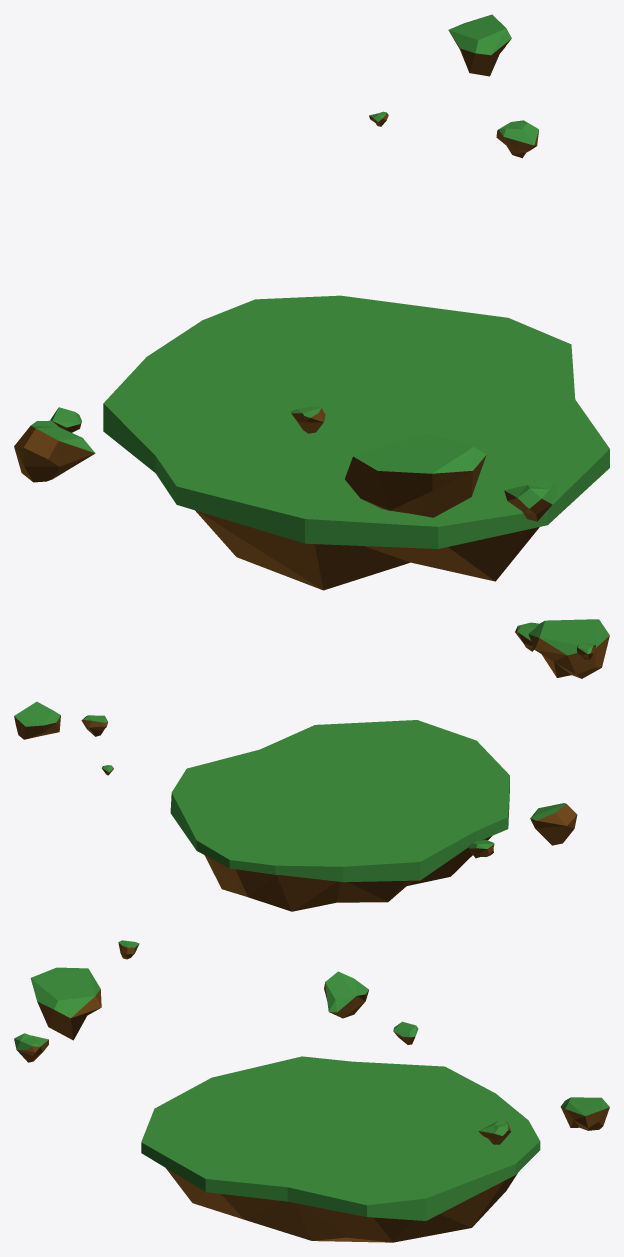
File: IslandUNITY.fbx
The picture shows the model from 3 angles, top to bottom: view 1: azimuth 30°, elevation 25°; view 2: azimuth 150°, elevation 25°; view 3: azimuth 270°, elevation 25°; orthographic projection. The views are drawn at different scales.
Visible parts, largest first — view 1: IslandWaterVer, rock.014, rock.017, rock.015, rock.019, rock.020; view 2: IslandWaterVer, rock.014, rock.017, rock.015, rock.020; view 3: IslandWaterVer, rock.014, rock.017, rock.015, rock.019, rock.020.
Boxes of the visible parts, x1=… form: IslandWaterVer: x1=103, y1=295, x2=609, y2=590; rock.014: x1=345, y1=433, x2=486, y2=517; rock.017: x1=14, y1=420, x2=95, y2=482; rock.015: x1=448, y1=14, x2=511, y2=76; rock.019: x1=504, y1=480, x2=558, y2=521; rock.020: x1=496, y1=120, x2=538, y2=158; IslandWaterVer: x1=170, y1=720, x2=509, y2=911; rock.014: x1=528, y1=619, x2=609, y2=678; rock.017: x1=530, y1=803, x2=577, y2=845; rock.015: x1=14, y1=701, x2=60, y2=739; rock.020: x1=81, y1=715, x2=107, y2=736; IslandWaterVer: x1=141, y1=1056, x2=540, y2=1242; rock.014: x1=30, y1=967, x2=101, y2=1040; rock.017: x1=324, y1=971, x2=368, y2=1018; rock.015: x1=560, y1=1097, x2=609, y2=1130; rock.019: x1=14, y1=1033, x2=48, y2=1062; rock.020: x1=478, y1=1119, x2=510, y2=1144.
Size of the model in its own units: 1115 by 481 by 1252.
